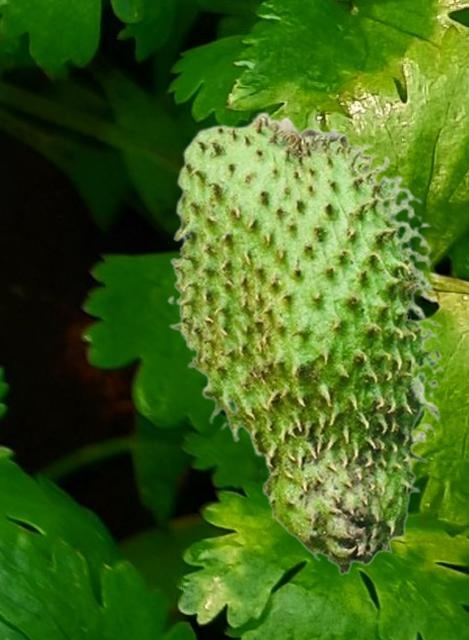guyabano: (166, 110, 445, 575)
